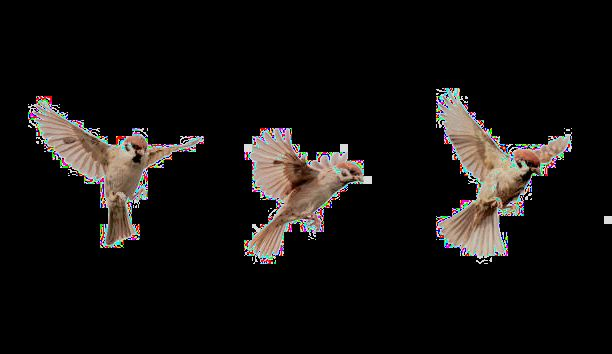Bird: (429, 82, 579, 265), (28, 104, 208, 250), (236, 116, 379, 264)
